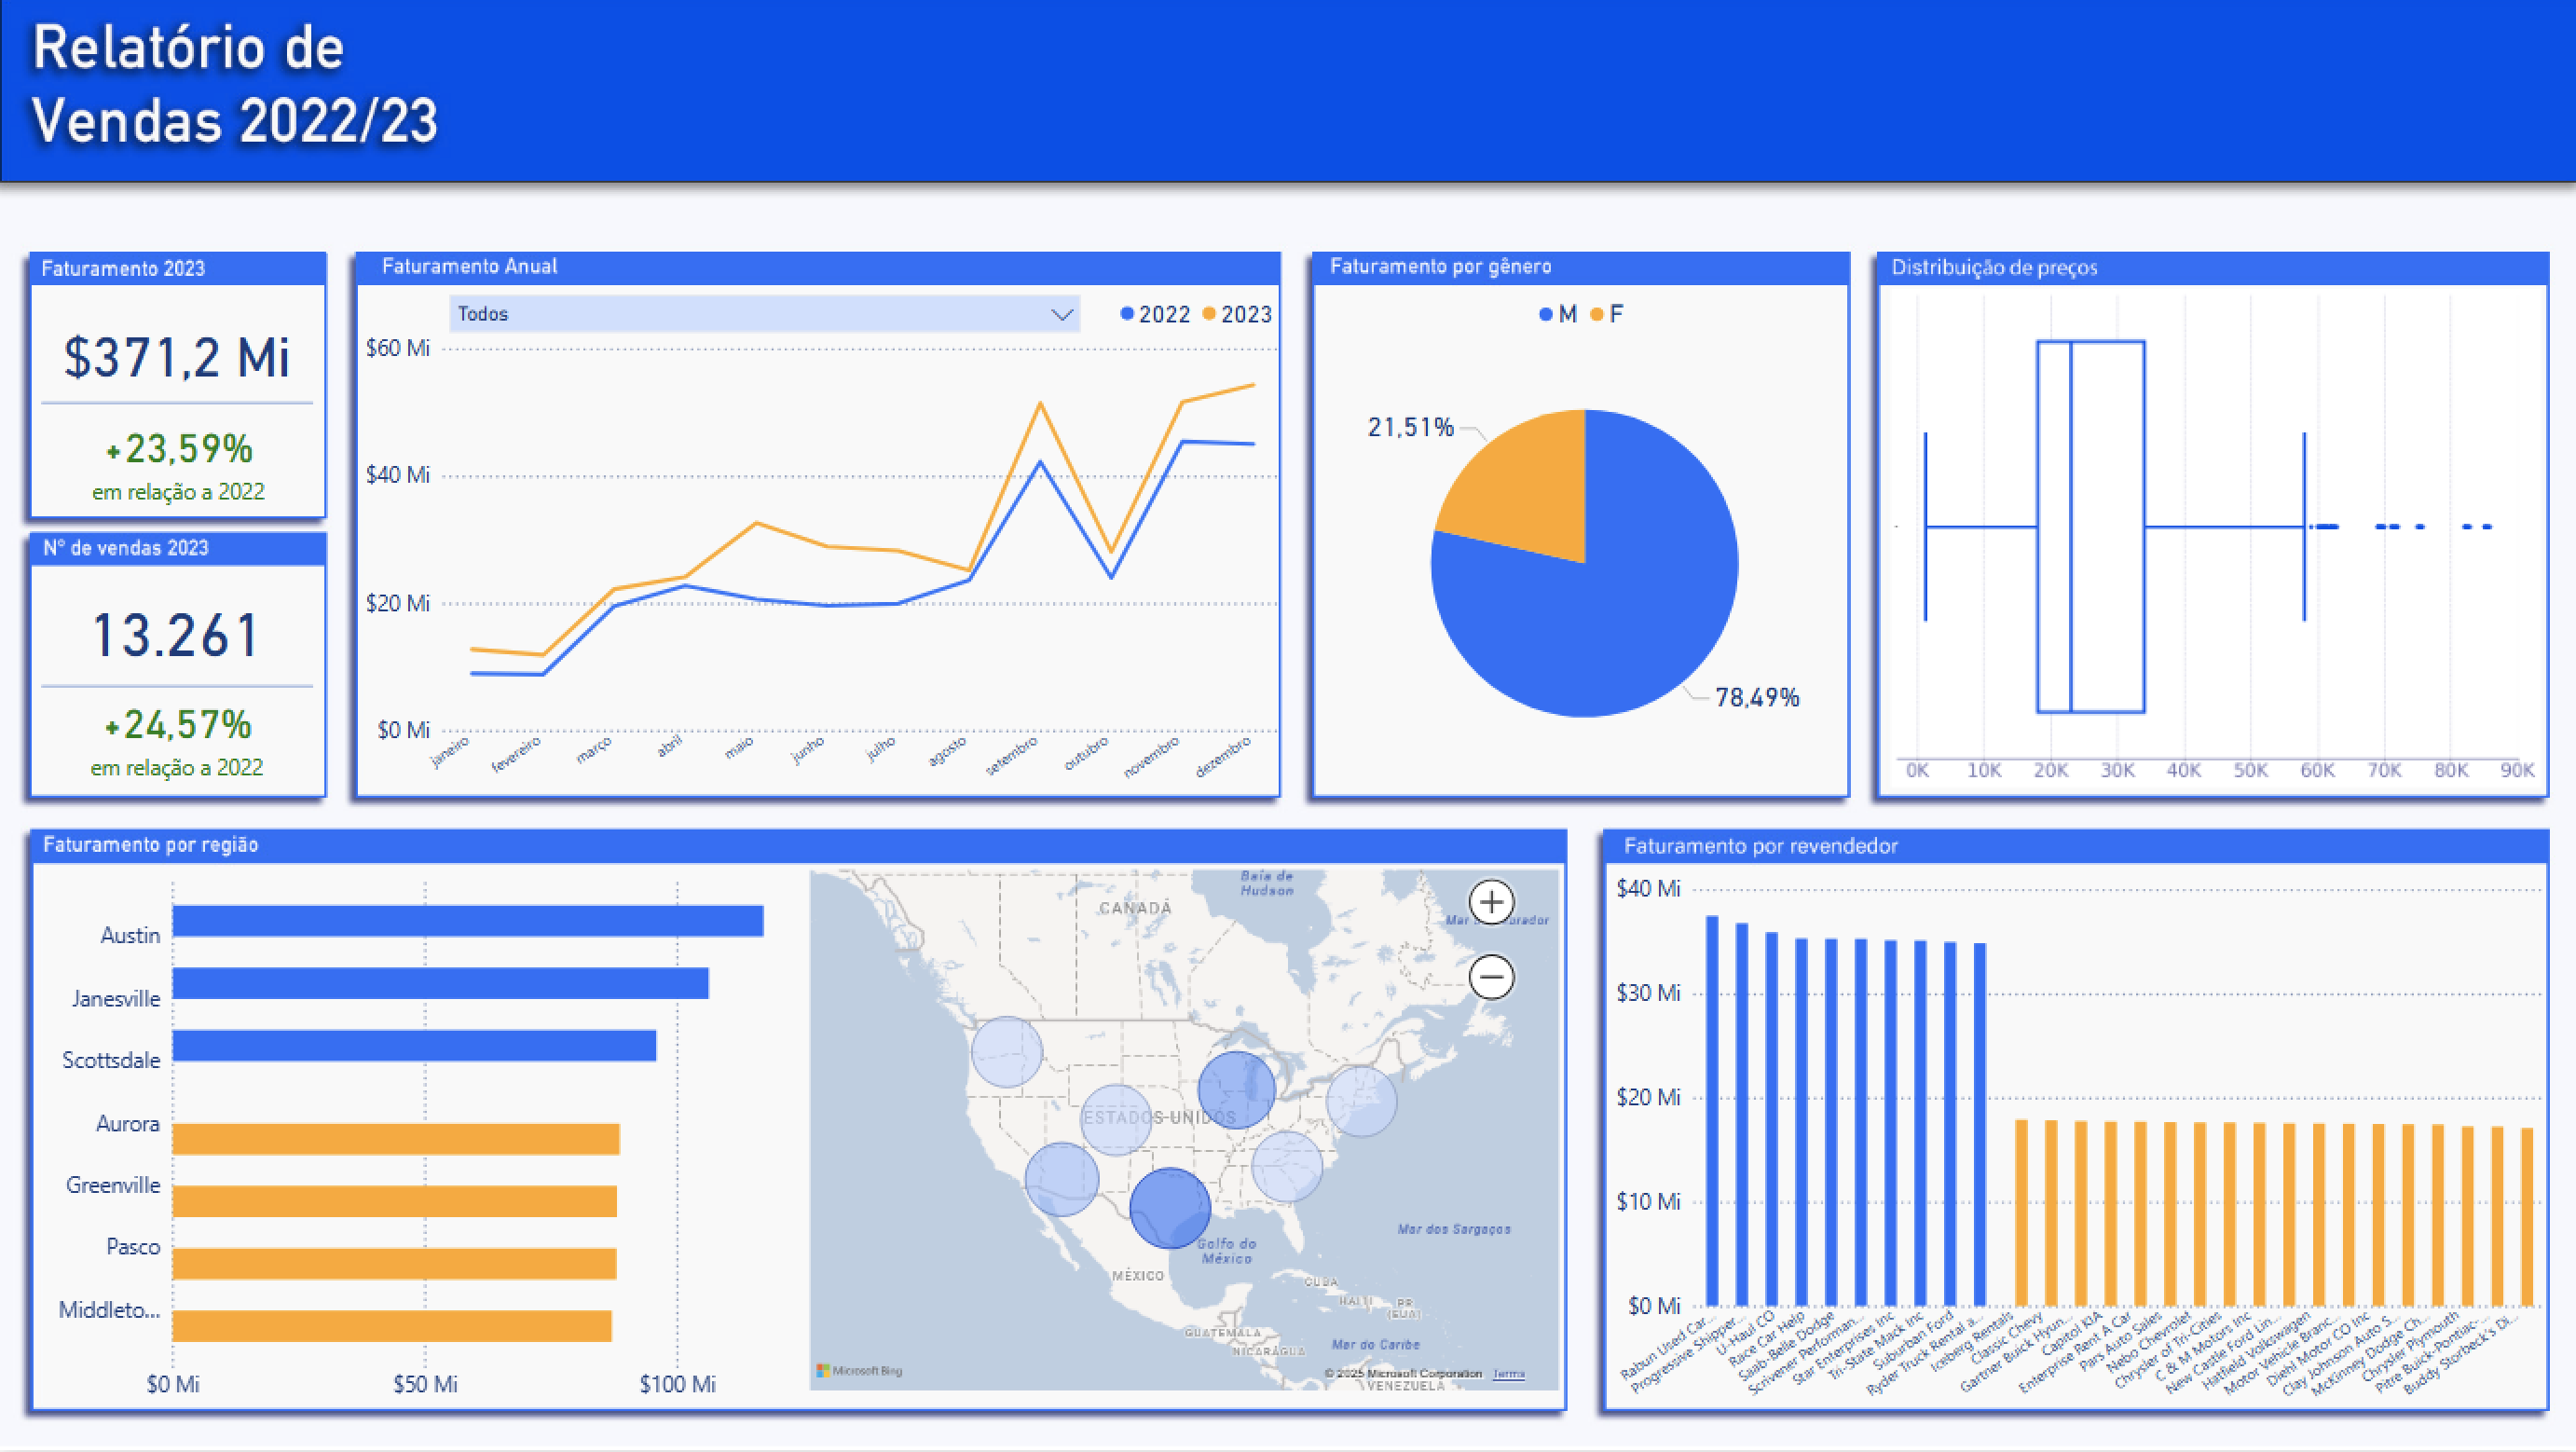

What the dashboard file says about the page in this screenshot:
{"tool":"powerbi","page":{"name":"Visão Geral","canvas":[1920,1080],"ordinal":0},"visuals":[{"type":"pieChart","fields":{"Y":["Car Sales xlsx - car_data.Price ($)"],"Category":["Car Sales xlsx - car_data.Gender"]},"box":[983.6,209.8,395.1,383.6],"z":0},{"type":"clusteredColumnChart","fields":{"Category":["Car Sales xlsx - car_data.Dealer_Name"],"Y":["Car Sales xlsx - car_data.Price ($)"],"Series":["Car Sales xlsx - car_data.Classificação_Loja"]},"box":[1198,645.8,702.9,406.2],"z":1000},{"type":"lineChart","fields":{"Series":["Car Sales xlsx - car_data.Date.Variation.Hierarquia de datas.Ano"],"Y":["Car Sales xlsx - car_data.Price ($)"],"Category":["Car Sales xlsx - car_data.Date.Variation.Hierarquia de datas.Mês"]},"box":[267.2,209.8,693.4,383.6],"z":2000},{"type":"map","fields":{"Category":["Car Sales xlsx - car_data.Dealer_Region"],"Size":["Car Sales xlsx - car_data.Price ($)"]},"box":[598.2,642.6,568.1,398.3],"z":3000},{"type":"pythonVisual","fields":{"Values":["Car Sales xlsx - car_data.Price ($)","Car Sales xlsx - car_data.Car_id"]},"box":[1401.8,210,499.1,381.8],"z":4000},{"type":"card","fields":{"Values":["Car Sales xlsx - car_data.Price ($)"]},"box":[18.9,221.6,224.3,78.4],"z":5000},{"type":"card","fields":{"Values":["Car Sales xlsx - car_data.Car_id"]},"box":[19.6,428,223,78.4],"z":6000},{"type":"card","title":"em relação a 2022","fields":{"Values":["Car Sales xlsx - car_data.KPI_Indicador"]},"box":[20.6,296.7,223.7,88.9],"z":7000},{"type":"shape","box":[30.1,224.6,203.5,150.7],"z":8000},{"type":"shape","box":[30.1,435.5,203.5,150.7],"z":9000},{"type":"card","title":"em relação a 2022","fields":{"Values":["Car Sales xlsx - car_data.KPI_Indicador_QTD"]},"box":[19.6,503.4,224.6,88.9],"z":10000},{"type":"slicer","fields":{"Values":["Car Sales xlsx - car_data.Date.Variation.Hierarquia de datas.Mês"]},"box":[325.3,209.5,490.3,131.7],"z":11000},{"type":"clusteredBarChart","fields":{"Category":["Car Sales xlsx - car_data.Dealer_Region"],"Y":["Car Sales xlsx - car_data.Price ($)"],"Series":["Car Sales xlsx - car_data.Personalizar"]},"box":[27,642.6,587.1,409.4],"z":12000}]}

Visuals, with their boxes in screenshot pixels (x1, y1, x2, y2), scaled from the page's 1920x1080 canvas onto the 2576x1452 screenshot:
pieChart - Car Sales xlsx - car_data.Price ($) x Car Sales xlsx - car_data.Gender: [left=1320, top=282, right=1850, bottom=798]
clusteredColumnChart - Car Sales xlsx - car_data.Dealer_Name x Car Sales xlsx - car_data.Price ($): [left=1608, top=869, right=2551, bottom=1415]
lineChart - Car Sales xlsx - car_data.Date.Variation.Hierarquia de datas.Ano x Car Sales xlsx - car_data.Price ($): [left=359, top=282, right=1289, bottom=798]
map - Car Sales xlsx - car_data.Dealer_Region x Car Sales xlsx - car_data.Price ($): [left=802, top=864, right=1565, bottom=1400]
pythonVisual - Car Sales xlsx - car_data.Price ($) x Car Sales xlsx - car_data.Car_id: [left=1881, top=282, right=2551, bottom=796]
card - Car Sales xlsx - car_data.Price ($): [left=25, top=298, right=326, bottom=404]
card - Car Sales xlsx - car_data.Car_id: [left=26, top=575, right=325, bottom=681]
"em relação a 2022" card: [left=28, top=399, right=328, bottom=518]
shape: [left=40, top=302, right=313, bottom=504]
shape: [left=40, top=585, right=313, bottom=788]
"em relação a 2022" card: [left=26, top=677, right=328, bottom=796]
slicer - Car Sales xlsx - car_data.Date.Variation.Hierarquia de datas.Mês: [left=436, top=281, right=1094, bottom=459]
clusteredBarChart - Car Sales xlsx - car_data.Dealer_Region x Car Sales xlsx - car_data.Price ($): [left=36, top=864, right=824, bottom=1415]
